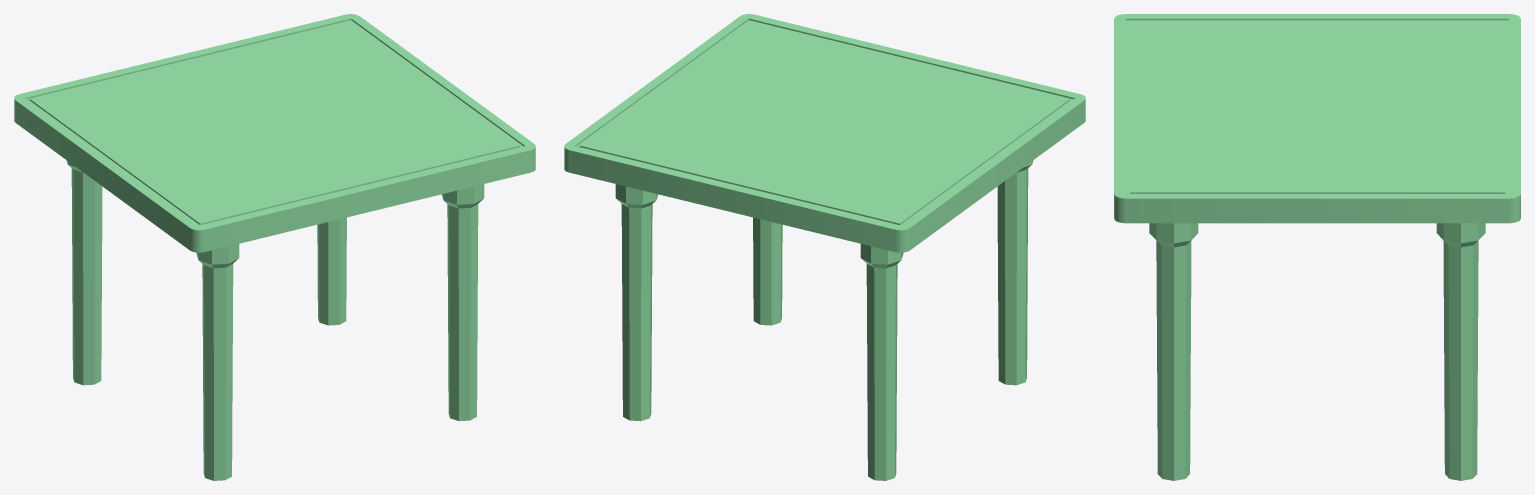
The model's file is Table.fbx.
The picture shows the model from 3 angles, left to right: view 1: azimuth 30°, elevation 25°; view 2: azimuth 150°, elevation 25°; view 3: azimuth 270°, elevation 25°; orthographic projection. The views are drawn at different scales.
Visible parts, largest first — view 1: Cube.004; view 2: Cube.004; view 3: Cube.004.
Part boxes in pixels (x1,y1,x2,y2): Cube.004: (14,14,535,480); Cube.004: (564,14,1085,480); Cube.004: (1114,14,1520,480).
Size of the model in its own units: 282 by 215 by 262.
